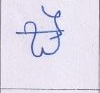ai_matra: (41, 5, 64, 30)
